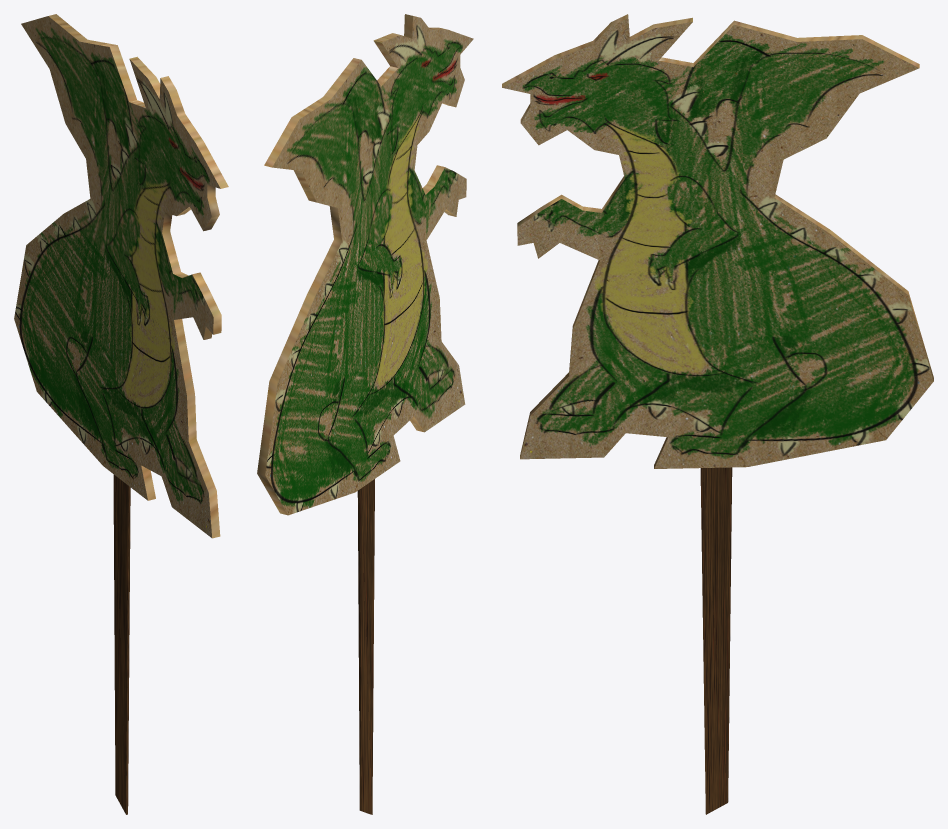
File: Green dragon.fbx
3 renders of one model, left to right at view 1: azimuth 30°, elevation 25°; view 2: azimuth 150°, elevation 25°; view 3: azimuth 270°, elevation 25°, orthographic. The views are drawn at different scales.
Visible parts, largest first — view 1: dragonding, stokje; view 2: dragonding, stokje; view 3: dragonding, stokje.
Boxes of the visible parts, x1,y1,x2,y2 form: dragonding: (14, 14, 228, 538); stokje: (113, 474, 130, 814); dragonding: (257, 14, 473, 515); stokje: (357, 479, 374, 814); dragonding: (502, 14, 933, 468); stokje: (700, 467, 732, 814).
Size of the model in its own units: 22.18 by 1717 by 841.
2 materials, 2 textured.
